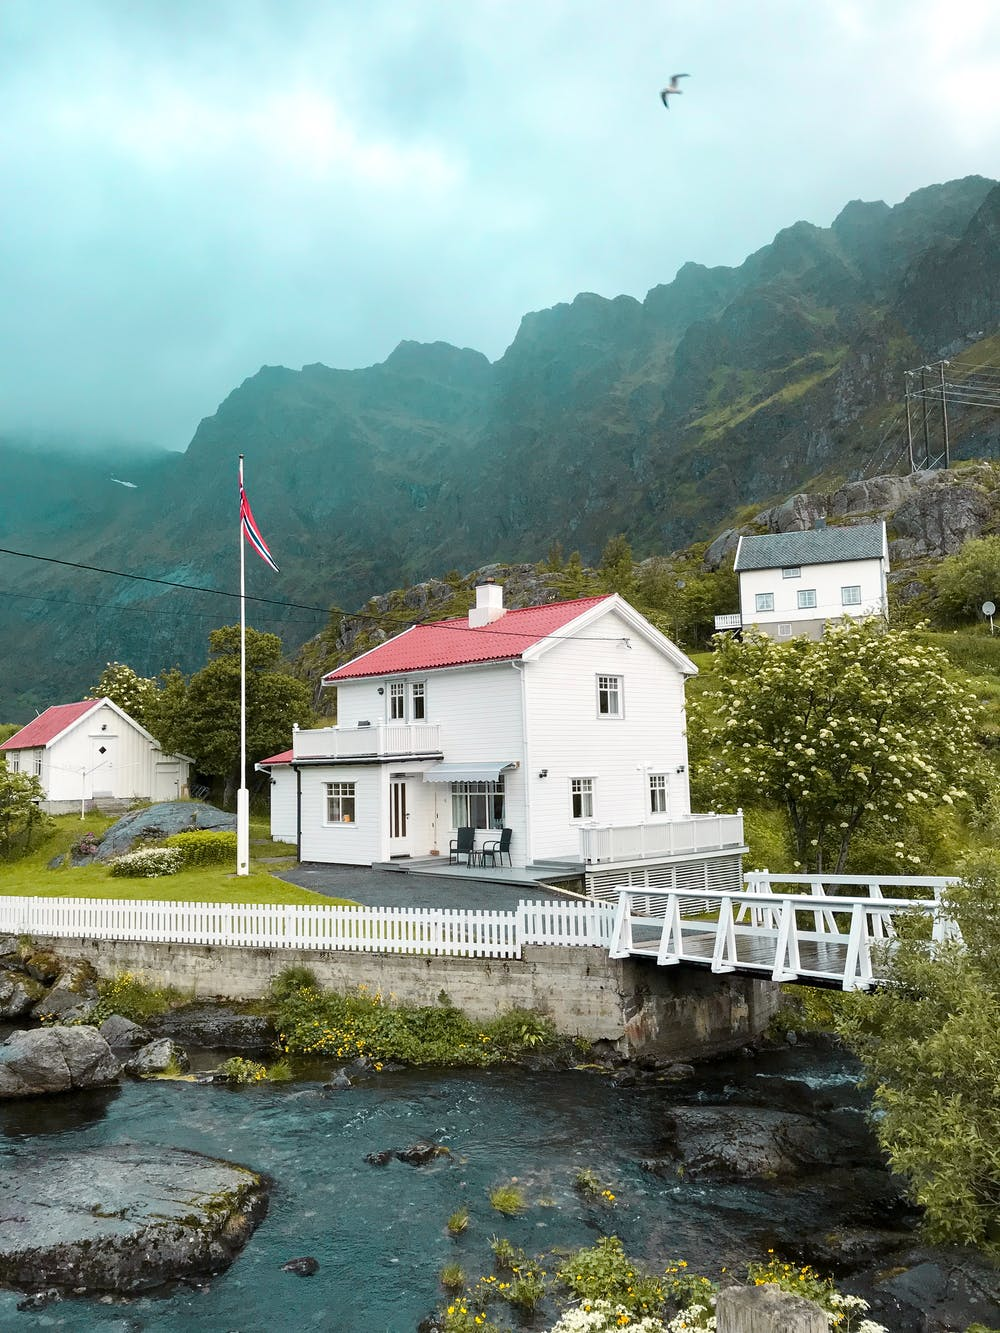Flag: (236, 481, 288, 578)
